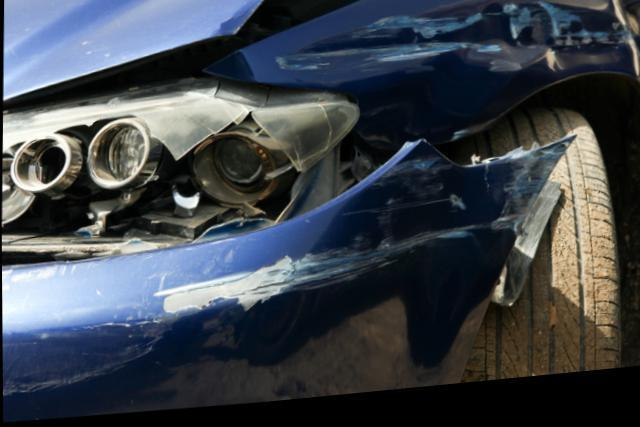dent: (277, 0, 636, 89)
dislocated part: (2, 0, 388, 108)
lamp broken: (1, 82, 361, 267)
scratch: (156, 150, 567, 322), (2, 314, 177, 400)
